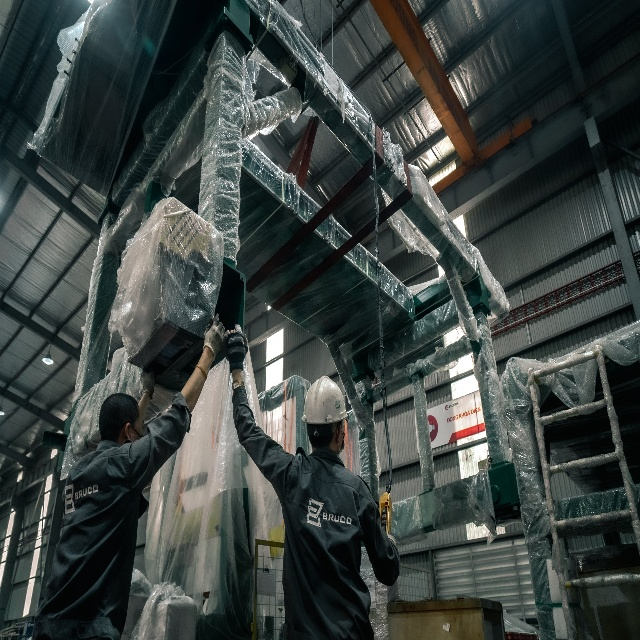Guantes: (203, 310, 228, 361), (227, 320, 249, 371)
